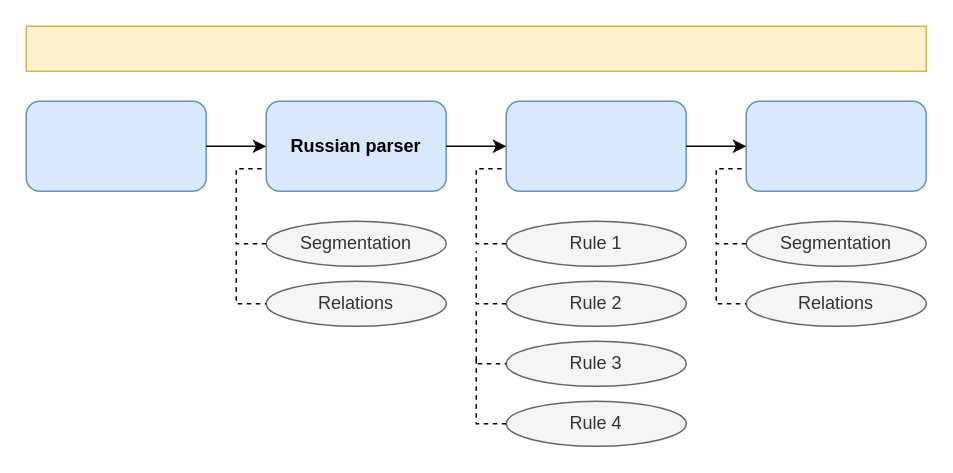
Image size: 953x473. Some labels were removed from this diagram. Each missing label, with the centre of its shape:
"Adaptation of the Russian parser" belongs at point (475, 48).
"New annotation" belongs at point (835, 145).
"Plain text" belongs at point (115, 145).
"Rules" belongs at point (595, 145).
